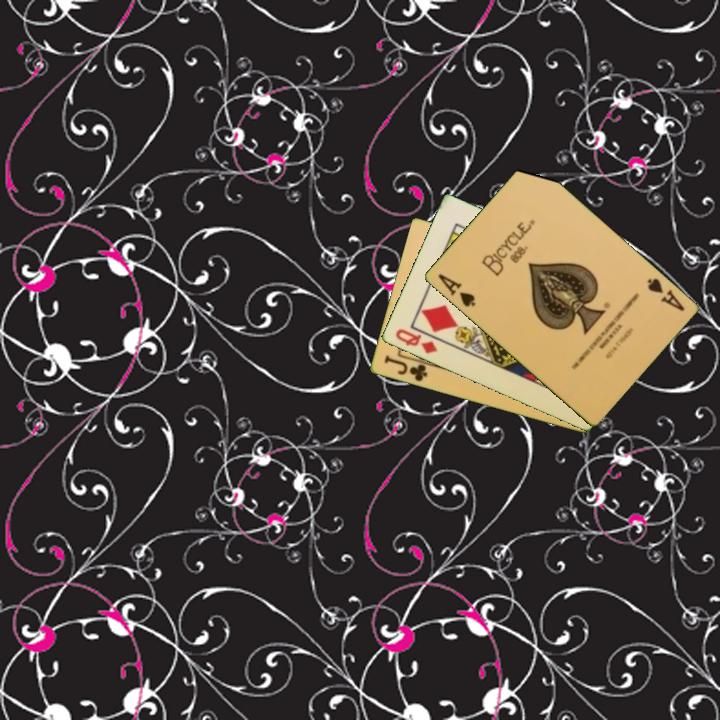As: (434, 270, 478, 310), (643, 275, 687, 314)
Jc: (380, 352, 430, 385)
Qd: (391, 325, 440, 357)
